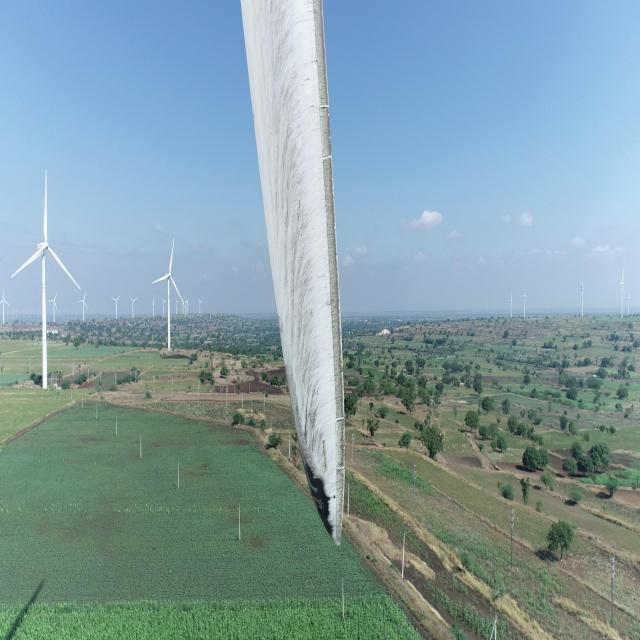Dirt: (242, 0, 348, 549)
Oil LEAKAGE: (304, 462, 335, 536)
Pin Hole: (321, 491, 333, 506)
